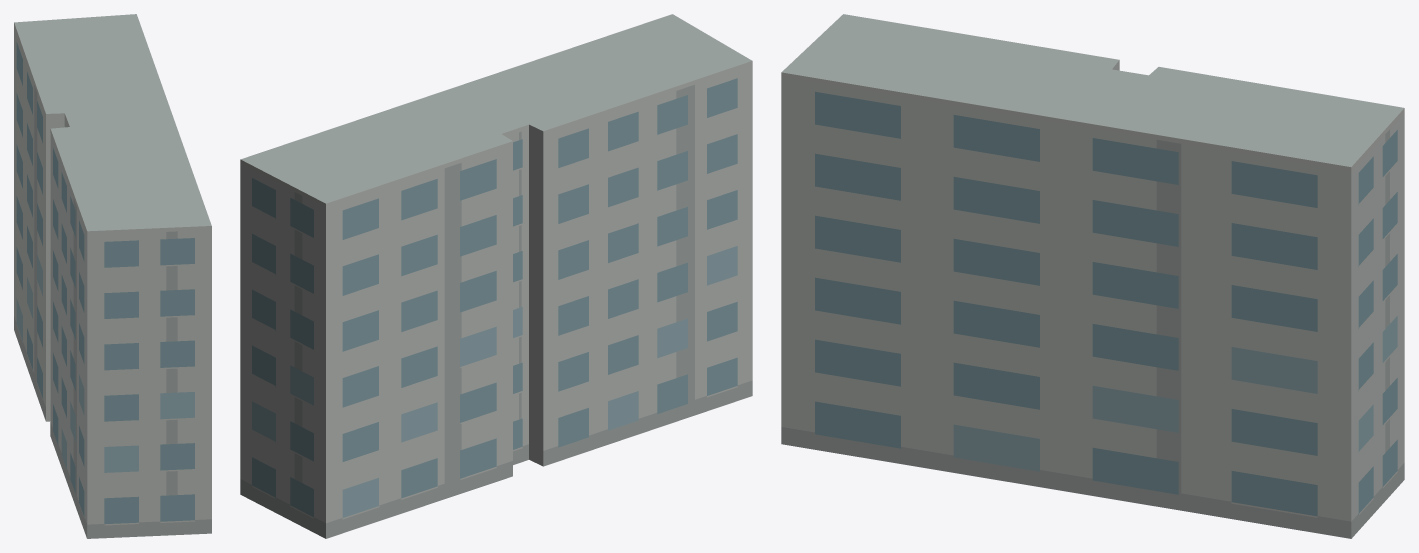
Rendered from survey-upis-32869038.glb.
3 views of the same model, side by side, from view 1: azimuth 30°, elevation 25°; view 2: azimuth 150°, elevation 25°; view 3: azimuth 270°, elevation 25° (orthographic). The views are drawn at different scales.
Parts seen in each view (by area): view 1: survey-upis-32869038.tmp; view 2: survey-upis-32869038.tmp; view 3: survey-upis-32869038.tmp.
Boxes of the visible parts, bbox=[...] form: survey-upis-32869038.tmp: bbox=[14, 14, 211, 538]; survey-upis-32869038.tmp: bbox=[240, 14, 752, 538]; survey-upis-32869038.tmp: bbox=[781, 14, 1404, 538].
Size of the model in its own units: 16.36 by 18.5 by 28.12.
